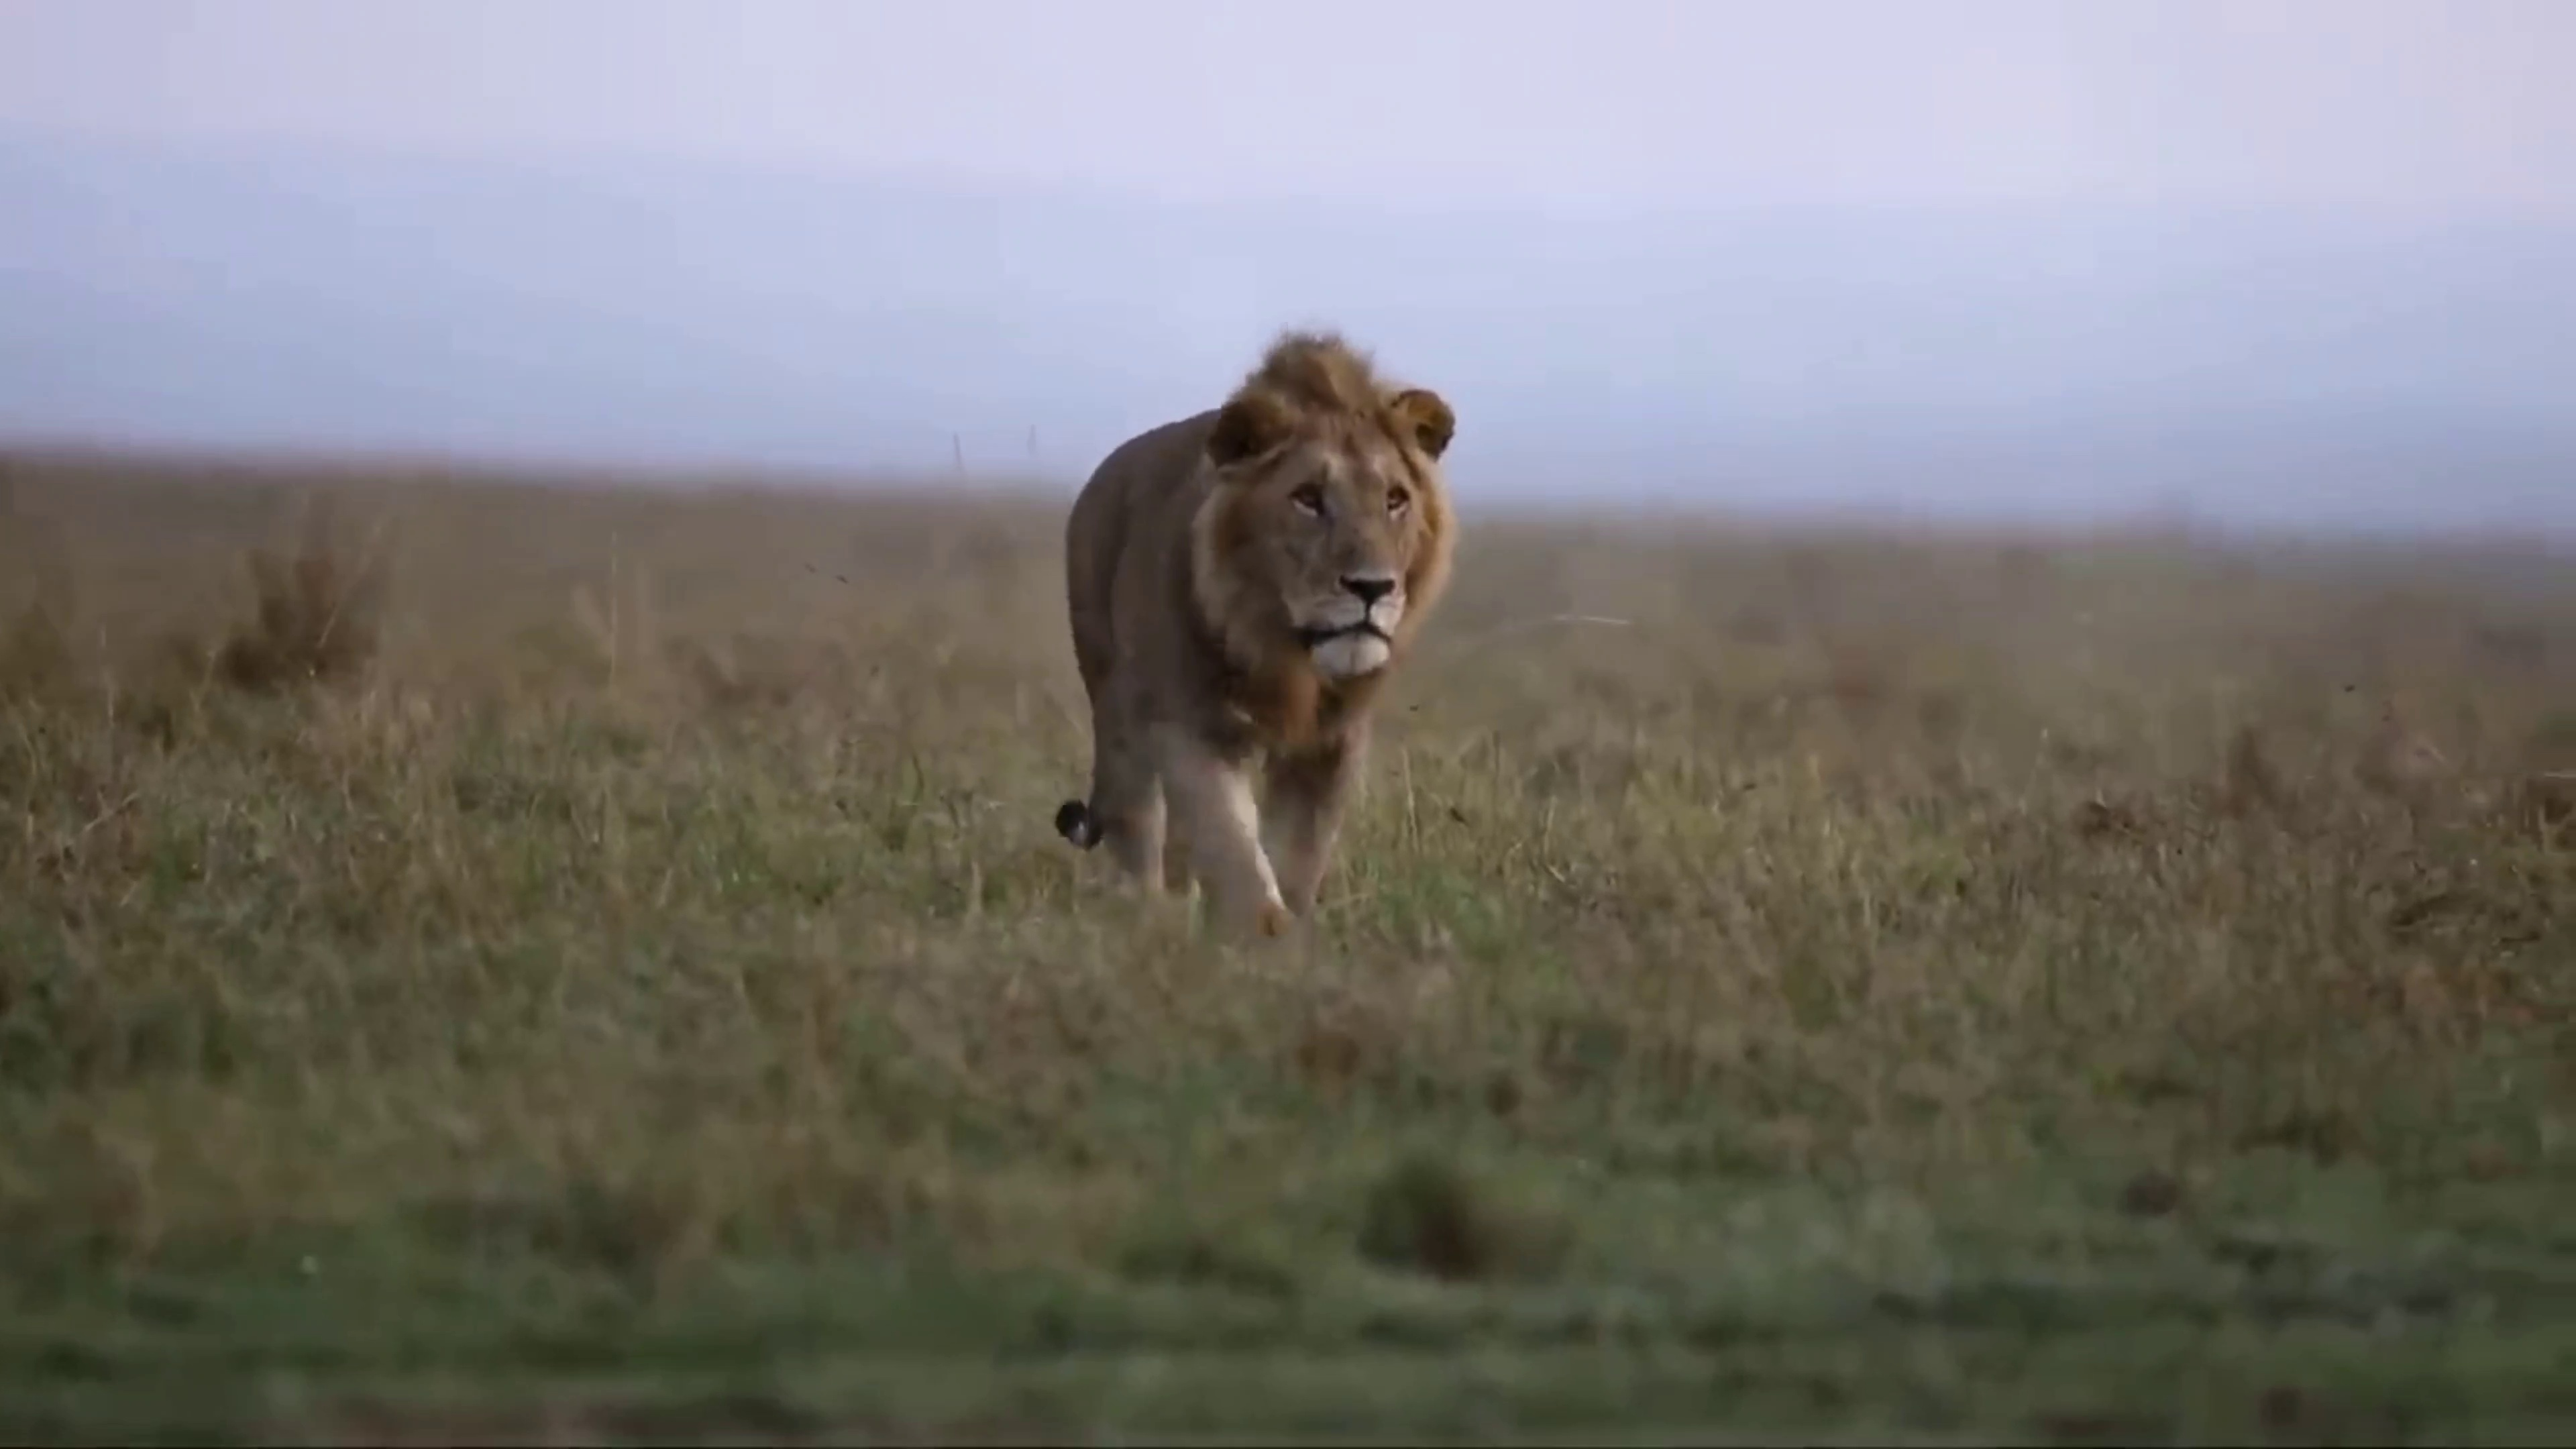Lion: (1049, 326, 1463, 932)
